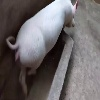heo: (4, 1, 78, 95)
